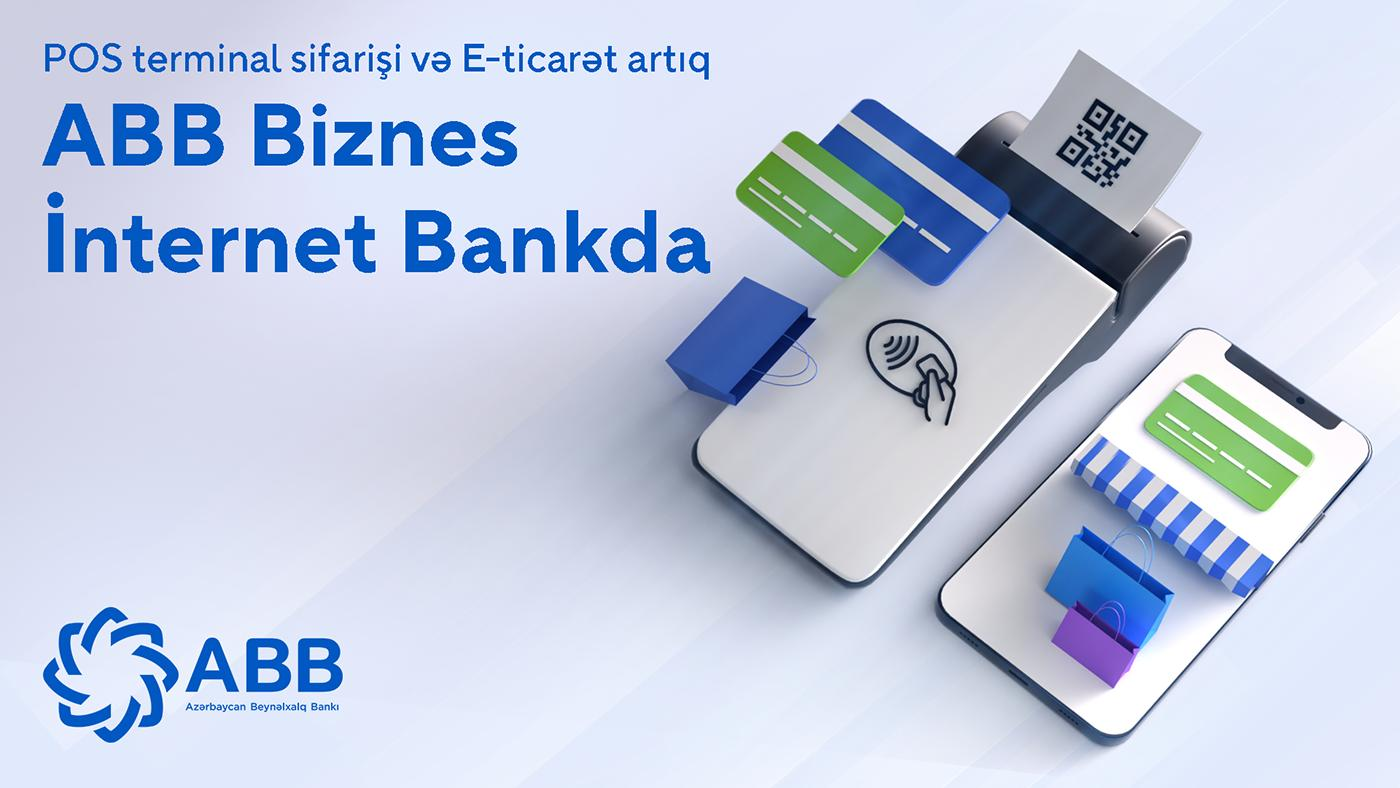ABB: (41, 606, 181, 747)
